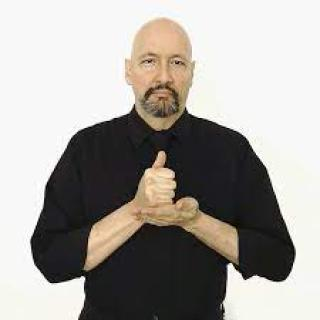Help: (131, 142, 206, 239)
